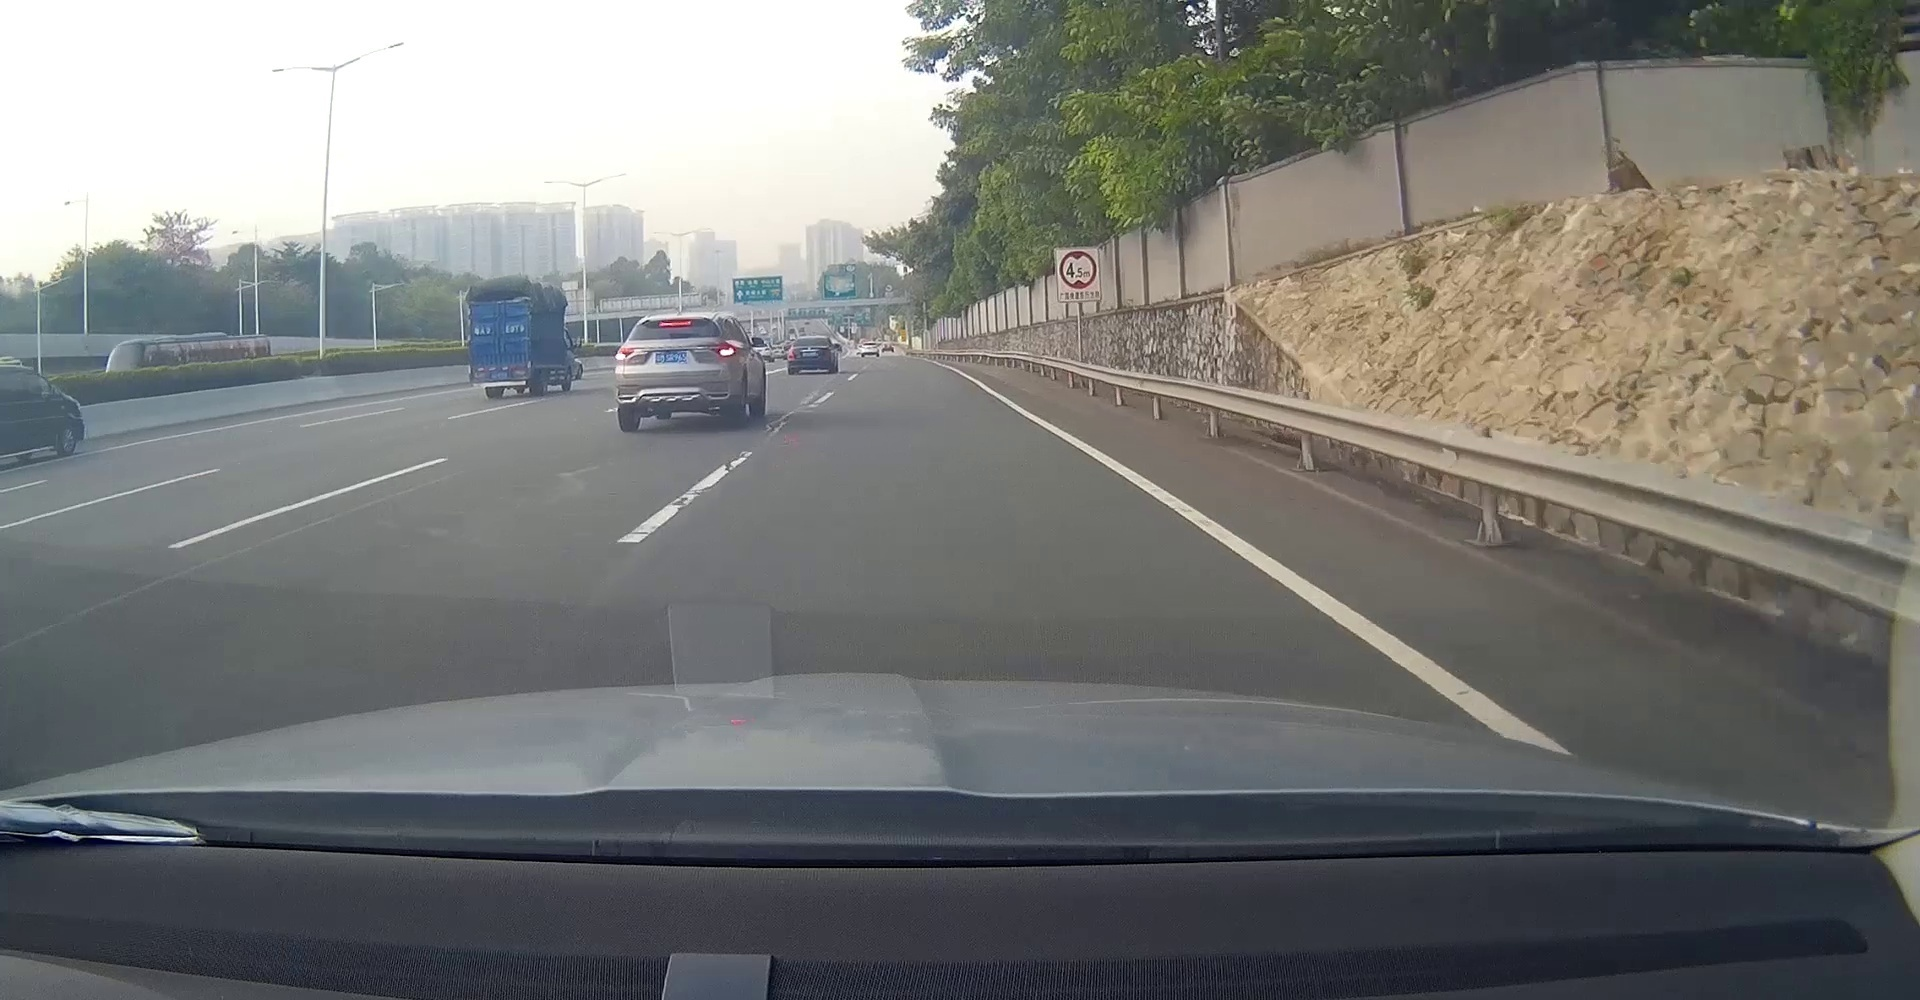L_light: (615, 346, 640, 360), (472, 372, 486, 378), (789, 350, 796, 360)
R_light: (710, 344, 737, 357), (512, 369, 524, 376), (825, 349, 832, 359)
T_light: (658, 320, 692, 327), (493, 301, 505, 306), (808, 338, 817, 340)
day-brake: (615, 312, 739, 431)
day-no: (467, 275, 535, 398), (787, 336, 832, 376)
